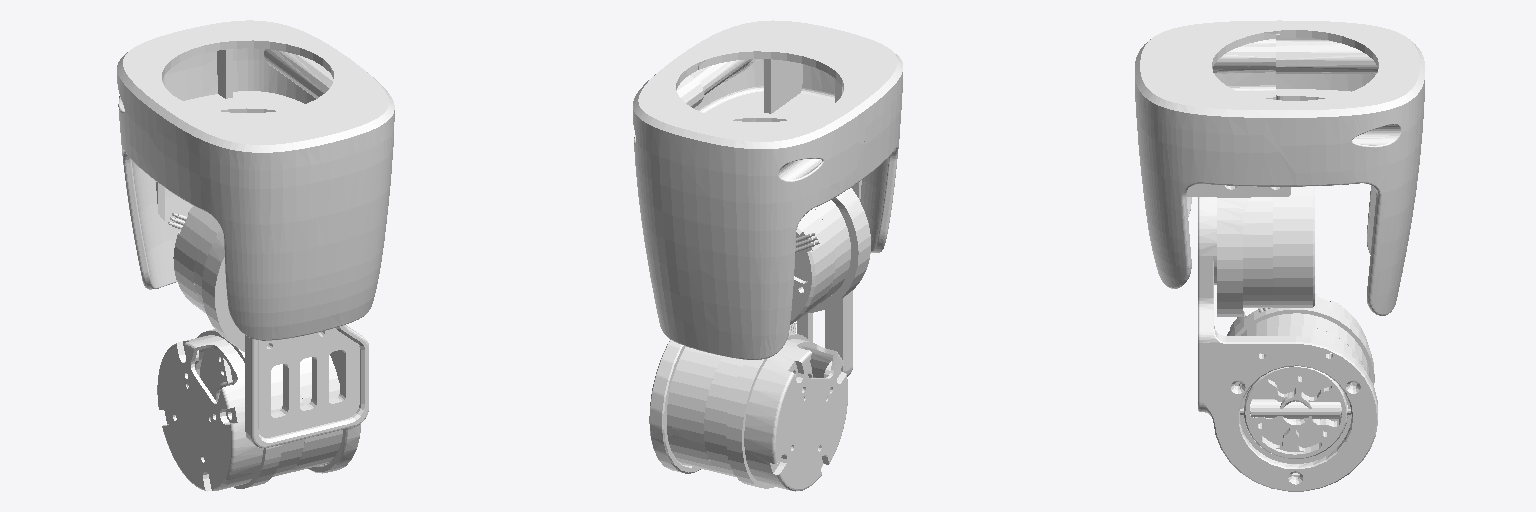
robot.urdf — biped_s4:
<?xml version="1.0" encoding="utf-8"?>
<!-- This URDF was automatically created by SolidWorks to URDF Exporter! Originally created by [author] ([email redacted]) 
     Commit Version: 1.6.0-4-g7f85cfe  Build Version: 1.6.7995.38578
     For more information, please see http://wiki.ros.org/sw_urdf_exporter -->
<robot
  name="biped_s4">
  
  <link
    name="r_hand_yaw">
    <inertial>
      <origin
        xyz="-0.000112955483967687 -0.00974449526683929 0.0227958280839014"
        rpy="0 0 0" />
      <mass
        value="0.380792" />
      <inertia
        ixx="7.64922331363792E-05"
        ixy="8.75195261100849E-09"
        ixz="1.38703019538351E-08"
        iyy="0.000122230542206117"
        iyz="-1.1123944412365E-06"
        izz="8.44929064837534E-05" />
    </inertial>
    <visual>
      <origin
        xyz="0 0 0"
        rpy="0 0 0" />
      <geometry>
        <mesh
          filename="../meshes/r_hand_yaw.obj" />
      </geometry>
      <material
        name="">
        <color
          rgba="1 1 1 1" />
      </material>
    </visual>
    <!-- <collision>
      <origin
        xyz="0 0 0"
        rpy="0 0 0" />
      <geometry>
        <mesh
          filename="../meshes/r_hand_yaw.obj" />
      </geometry>
    </collision> -->
  </link>
    
  <link
    name="r_hand_pitch">
    <inertial>
      <origin
        xyz="0.00735986990228201 -0.00475238307648407 -0.0529411193942666"
        rpy="0 0 0" />
      <mass
        value="0.376651" />
      <inertia
        ixx="4.77321358097823E-05"
        ixy="-2.99709432812987E-06"
        ixz="4.71488437974189E-06"
        iyy="3.42470226388499E-05"
        iyz="4.61094199971348E-06"
        izz="2.51299600072389E-05" />
    </inertial>
    <visual>
      <origin
        xyz="0 0 0"
        rpy="0 0 0" />
      <geometry>
        <mesh
          filename="../meshes/r_hand_pitch.obj" />
      </geometry>
      <material
        name="">
        <color
          rgba="1 1 1 1" />
      </material>
    </visual>
    <!-- <collision>
      <origin
        xyz="0 0 0"
        rpy="0 0 0" />
      <geometry>
        <mesh
          filename="../meshes/r_hand_pitch.obj" />
      </geometry>
    </collision> -->
  </link>
  <joint
    name="r_hand_pitch"
    type="continuous">
    <origin
      xyz="0 0 0"
      rpy="0 0 0" />
    <parent
      link="r_hand_yaw" />
    <child
      link="r_hand_pitch" />
    <axis
      xyz="0 1 0" />
  </joint>
  <transmission type="SimpleTransmission">
    <joint name="r_hand_pitch" />
    <actuator name="r_hand_pitch_motor" />
  </transmission>
  
  <link
    name="r_hand_roll">
    <inertial>
      <origin
        xyz="0.00300067727381764 -0.00948299721849261 -0.0665274119439575"
        rpy="0 0 0" />
      <mass
        value="0.704669" />
      <inertia
        ixx="9.14013694279149E-05"
        ixy="-3.00635383669835E-07"
        ixz="-4.88449841632957E-06"
        iyy="0.000140002484811824"
        iyz="-1.18898278478315E-05"
        izz="0.000125153253041102" />
    </inertial>
    <visual>
      <origin
        xyz="0 0 0"
        rpy="0 0 0" />
      <geometry>
        <mesh
          filename="../meshes/r_hand_roll.obj" />
      </geometry>
      <material
        name="">
        <color
          rgba="1 1 1 1" />
      </material>
    </visual>
    <!-- <collision>
      <origin
        xyz="0 0 0"
        rpy="0 0 0" />
      <geometry>
        <mesh
          filename="../meshes/r_hand_roll.obj" />
      </geometry>
    </collision> -->
  </link>
  <joint
    name="r_hand_roll"
    type="continuous">
    <origin
      xyz="0 0 -0.0590000000076598"
      rpy="0 0 0" />
    <parent
      link="r_hand_pitch" />
    <child
      link="r_hand_roll" />
    <axis
      xyz="1 0 0" />
  </joint>
  <transmission type="SimpleTransmission">
    <joint name="r_hand_roll" />
    <actuator name="r_hand_roll_motor" />
  </transmission>
  
</robot>

--- Render facts (derived) ---
3 views of the same robot in one strip: view 1: azimuth 30°, elevation 25°; view 2: azimuth 150°, elevation 25°; view 3: azimuth 270°, elevation 25° (orthographic).
Model biped_s4 with 3 links and 2 joints (2 continuous), rooted at r_hand_yaw, posed every joint at zero.
Links seen in each view (by area): view 1: r_hand_yaw, r_hand_pitch; view 2: r_hand_yaw, r_hand_pitch; view 3: r_hand_yaw, r_hand_pitch, r_hand_roll.
Boxes of the visible links, bbox=[...] form: r_hand_yaw: bbox=[117, 20, 394, 351]; r_hand_pitch: bbox=[157, 325, 368, 491]; r_hand_yaw: bbox=[633, 20, 902, 359]; r_hand_pitch: bbox=[649, 291, 852, 491]; r_hand_yaw: bbox=[1135, 20, 1424, 316]; r_hand_pitch: bbox=[1198, 197, 1377, 491]; r_hand_roll: bbox=[1240, 399, 1350, 418].
Bounding box of the posed robot: 0.08 × 0.1038 × 0.1546 m (x, y, z).
Meshes: 3 distinct files referenced, 3 mesh visuals loaded (3 OBJ).
